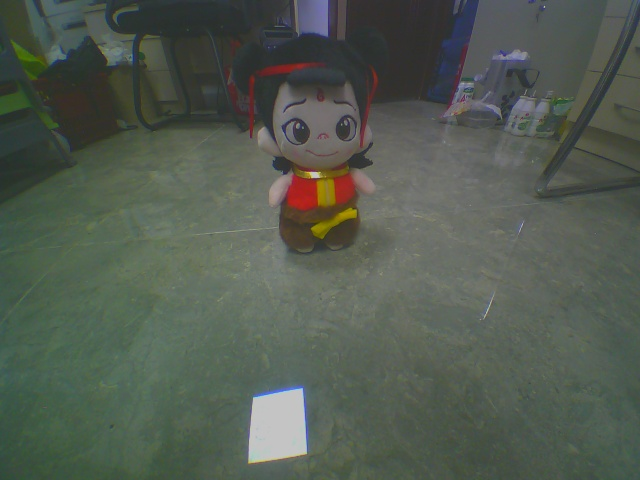Nezha2: (229, 27, 394, 256)
